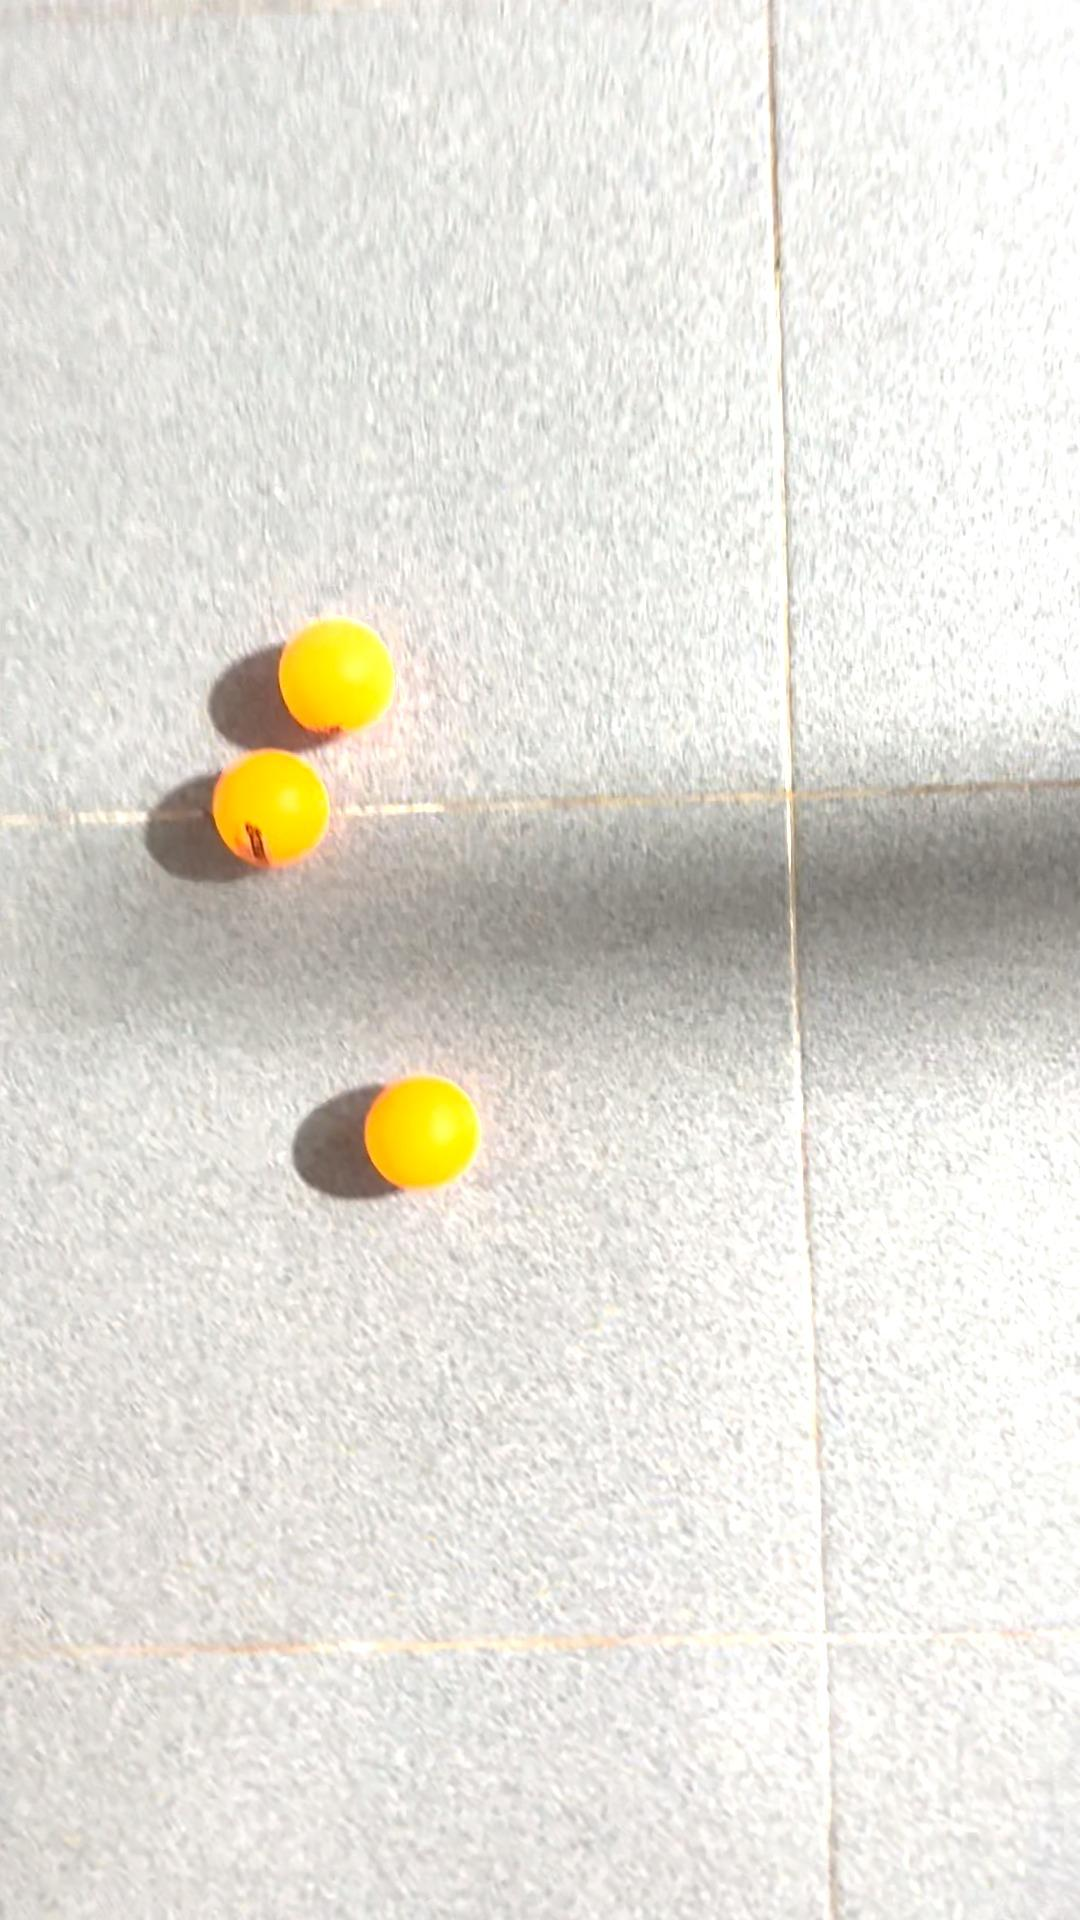oball: (261, 604, 409, 749), (357, 1071, 493, 1195), (206, 753, 338, 877)
